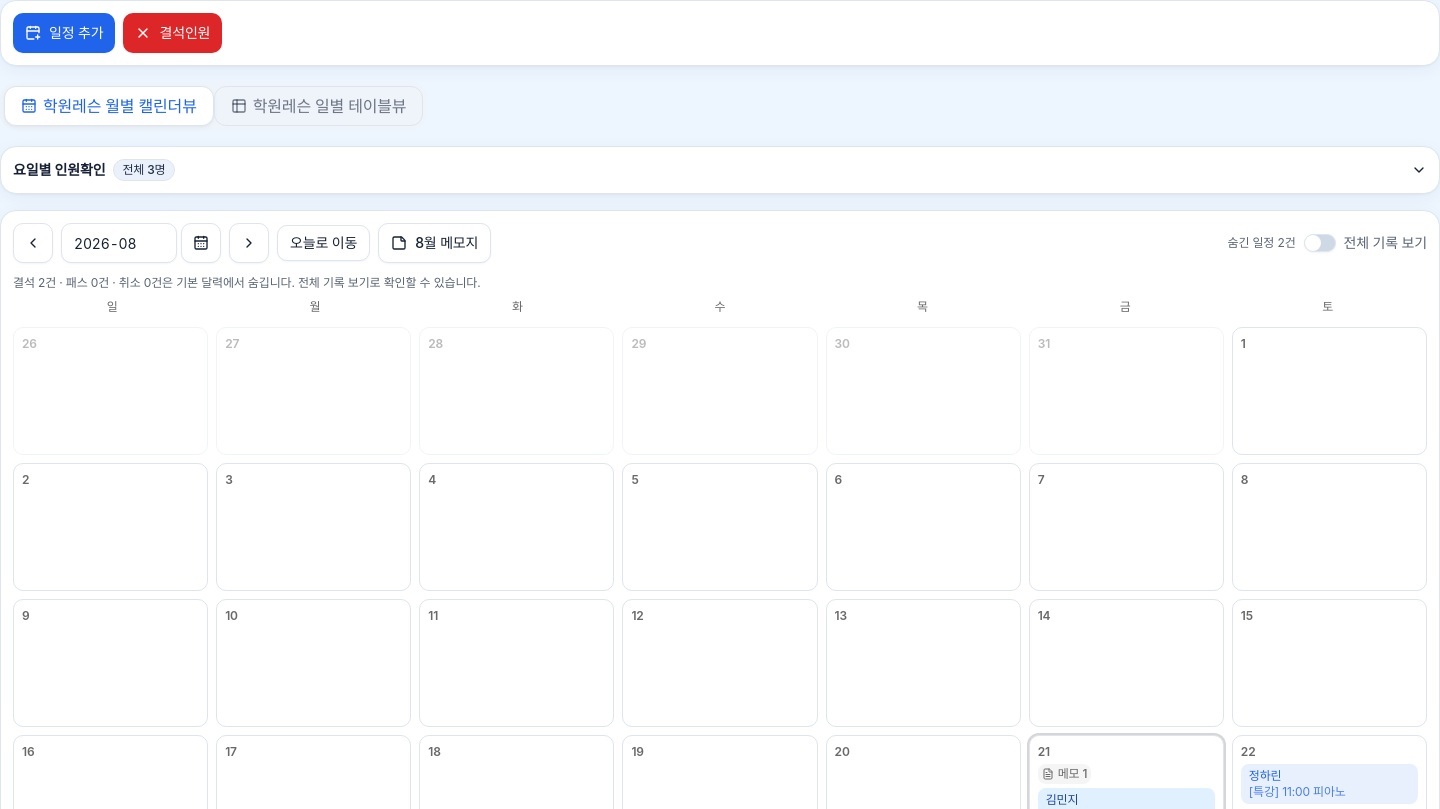
Scenario: 월별 메모지 (데모 경로) › 메모지는 보기 전환 줄의 버튼으로 열고, 평소에는 화면에 펼쳐 두지 않는다
Click the button "8월 메모지" at coordinates (435, 243), box [378,223,491,263]
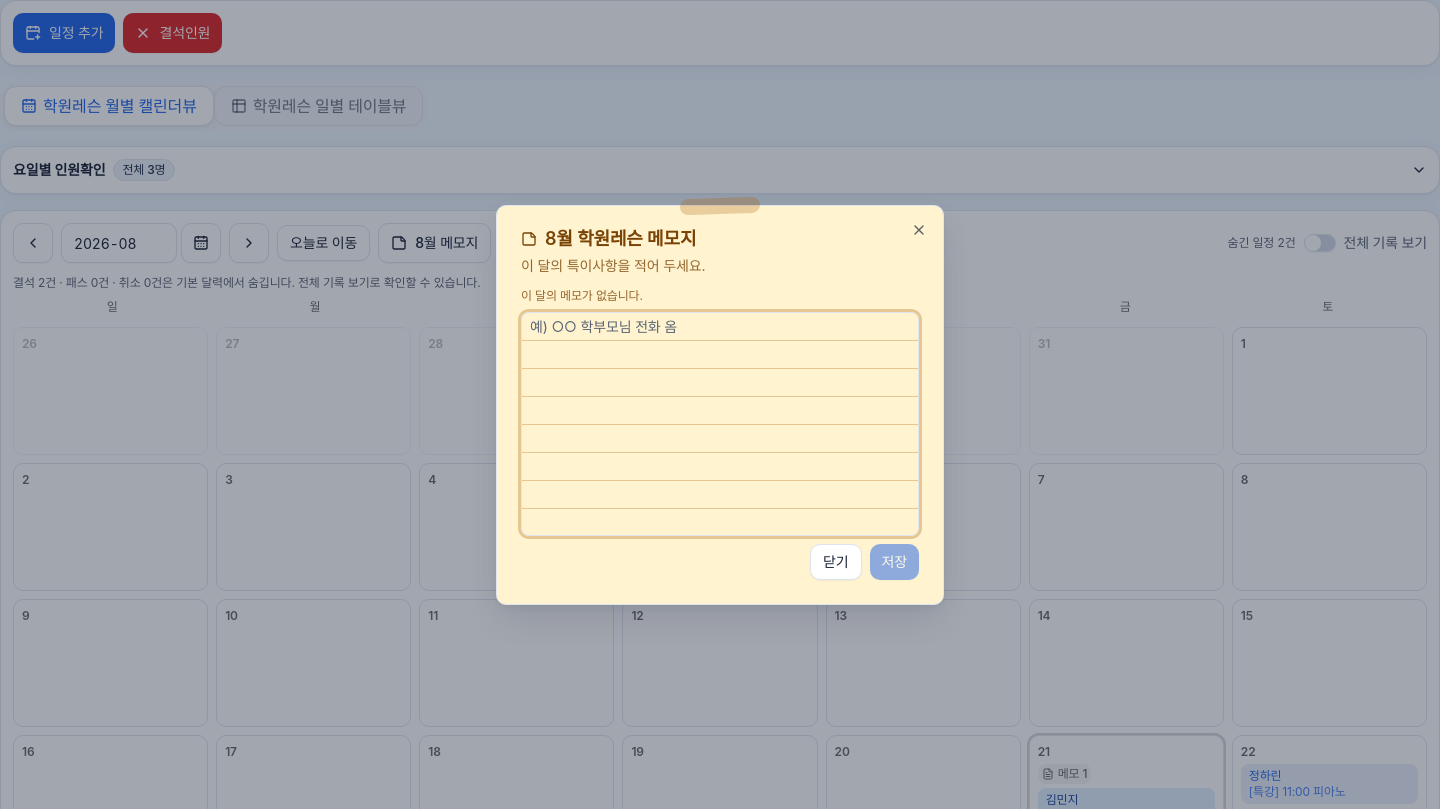
Check: the text "이 달의 메모가 없습니다." is shown, box [521,288,643,303]
